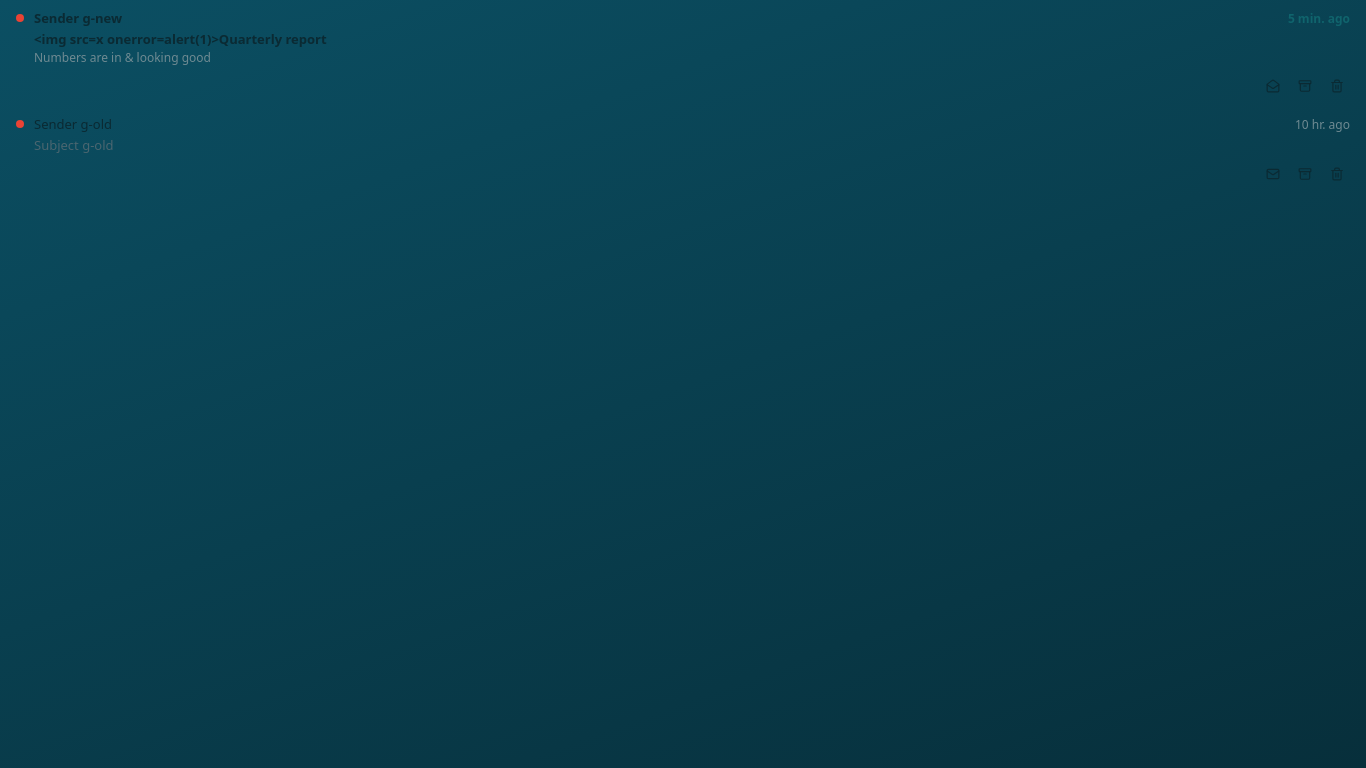
Test: MailWidget › a successful archive shows a toast and refetches the summary
The width and height of the screenshot is (1366, 768).
Expected: the text "Sender g-new" is shown, x1=34 y1=9 x2=122 y2=27
What coordinates should you click on to do the following:
click the button named "Archive" below "5 min. ago"
I would click on:
 (1305, 86)
Its box is x1=1290 y1=71 x2=1320 y2=101.
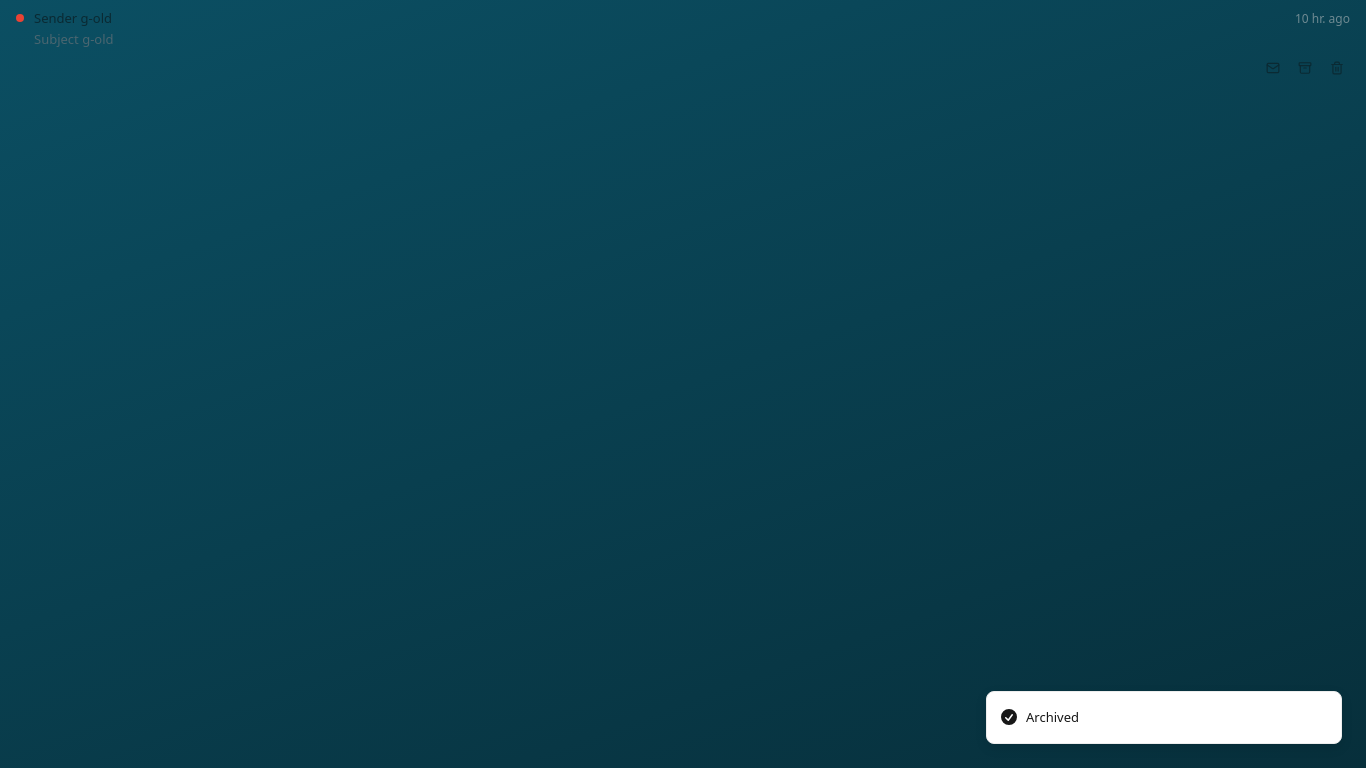
Result: the text "Archived" is shown at x1=1026 y1=708 x2=1079 y2=727
Result: the link "Sender g-new" is gone
